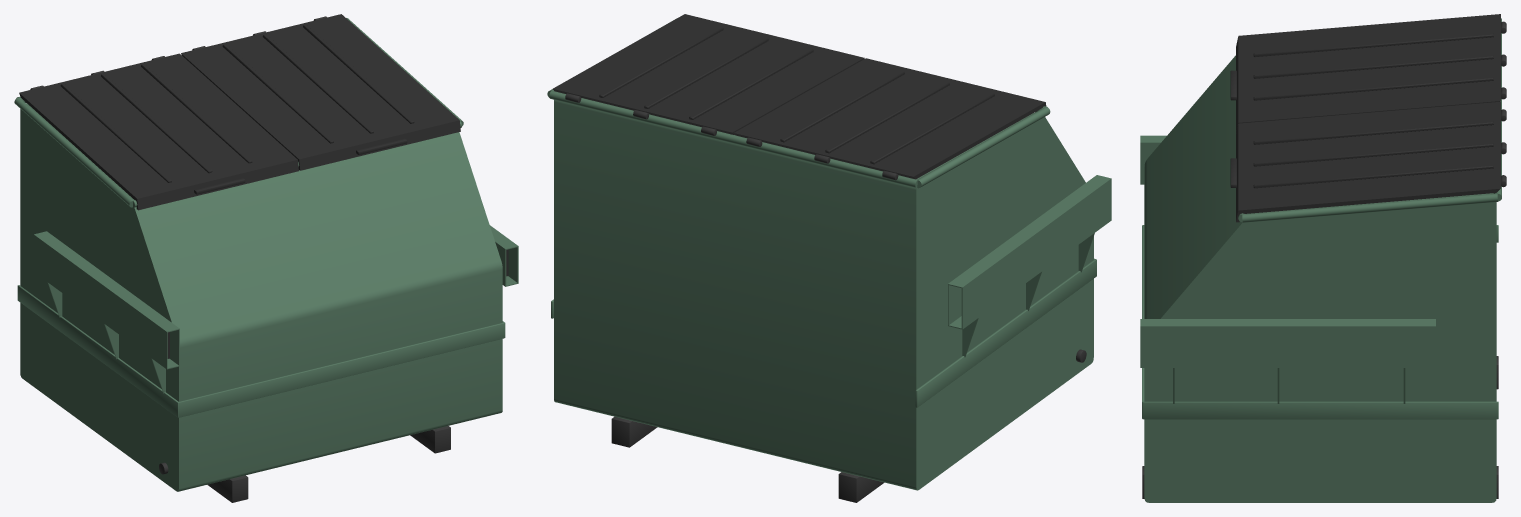
File: Kit_DumpsterFrontLoad.fbx
3 views of the same model, side by side, from view 1: azimuth 30°, elevation 25°; view 2: azimuth 150°, elevation 25°; view 3: azimuth 270°, elevation 25° (orthographic). The views are drawn at different scales.
Visible parts, largest first — view 1: Kit_DumpsterFrontLoad_LOD0; view 2: Kit_DumpsterFrontLoad_LOD0; view 3: Kit_DumpsterFrontLoad_LOD0.
Part boxes in pixels (x1=…): Kit_DumpsterFrontLoad_LOD0: x1=14, y1=14, x2=518, y2=502; Kit_DumpsterFrontLoad_LOD0: x1=547, y1=14, x2=1111, y2=502; Kit_DumpsterFrontLoad_LOD0: x1=1140, y1=14, x2=1506, y2=502.
Size of what is drawn, in the model's own units: 2.15 by 1.79 by 1.75.
